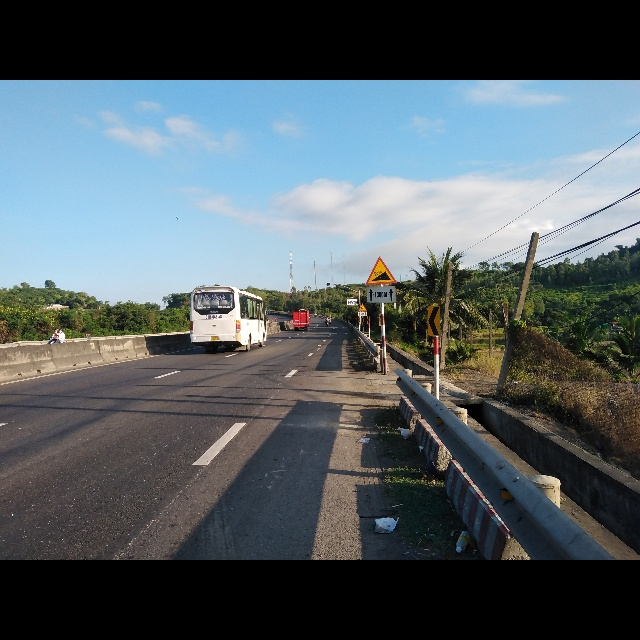Dốc lên nguy hiểm: (364, 253, 397, 284)
